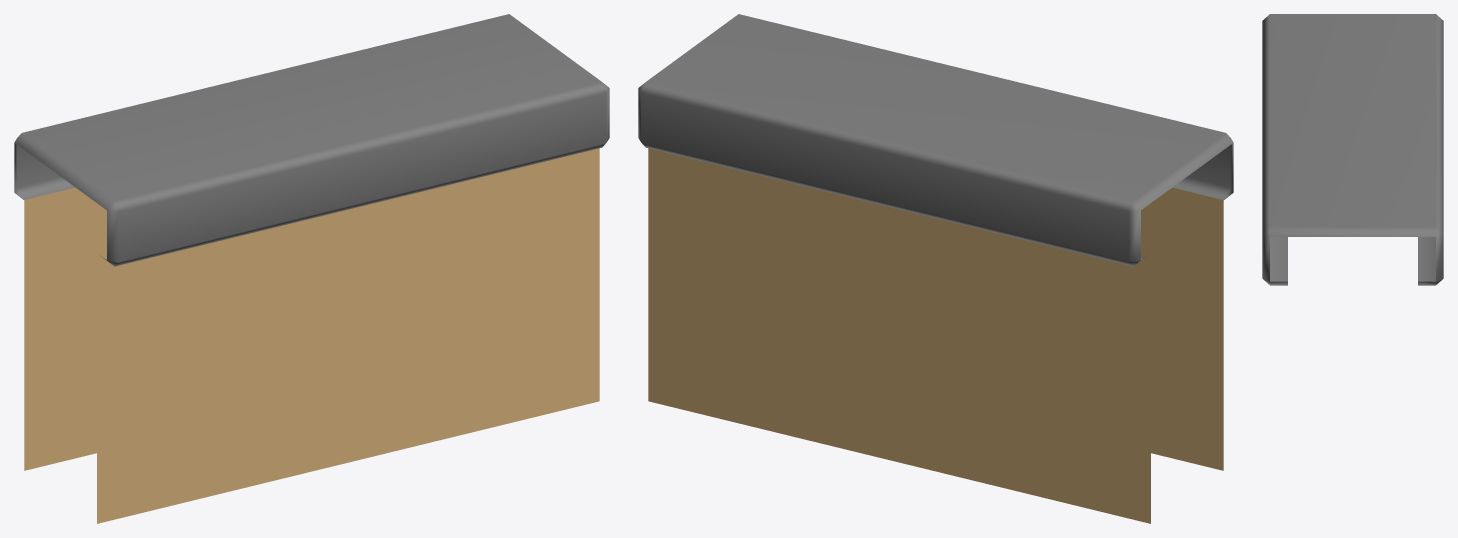
Rendered from SM_WallB_4x2_LOD1.fbx.
3 renders of one model, left to right at view 1: azimuth 30°, elevation 25°; view 2: azimuth 150°, elevation 25°; view 3: azimuth 270°, elevation 25°, orthographic. The views are drawn at different scales.
Parts seen in each view (by area): view 1: SM_WallB_4x2_LOD1; view 2: SM_WallB_4x2_LOD1; view 3: SM_WallB_4x2_LOD1.
Part boxes in pixels (x1,y1,x2,y2): SM_WallB_4x2_LOD1: [14, 14, 609, 523]; SM_WallB_4x2_LOD1: [638, 14, 1233, 523]; SM_WallB_4x2_LOD1: [1262, 14, 1443, 285].
Size of the model in its own units: 4 by 2.5 by 1.4.
